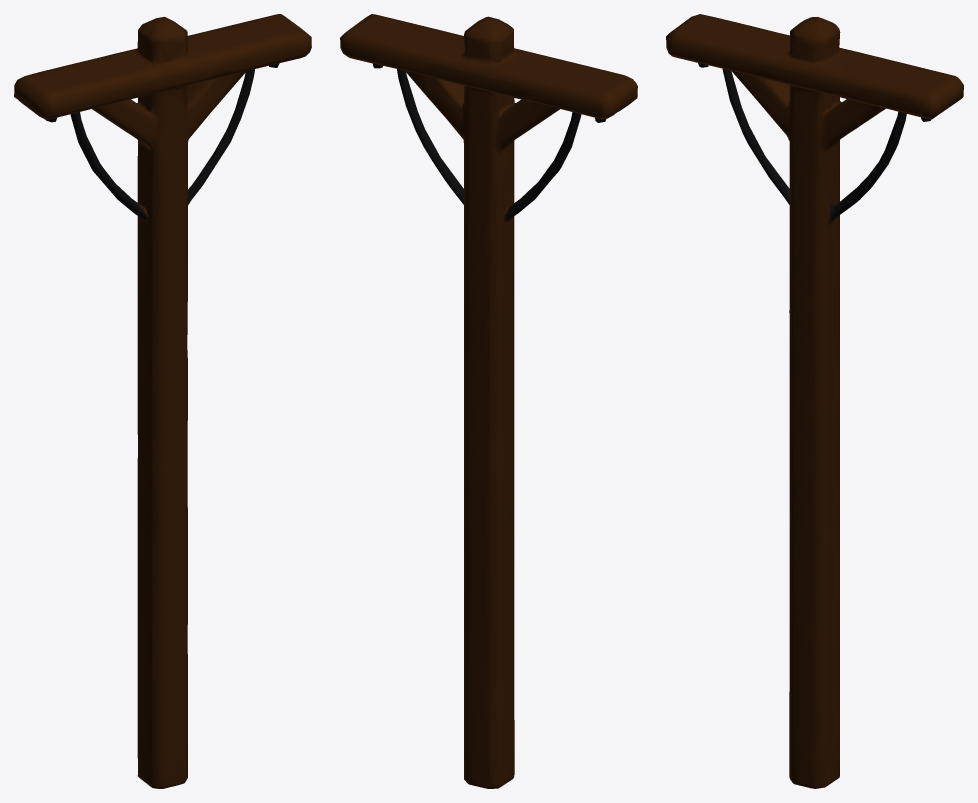
File: gen3d-telephone-pole-lod0.glb
3 views of the same model, side by side, from view 1: azimuth 30°, elevation 25°; view 2: azimuth 150°, elevation 25°; view 3: azimuth 330°, elevation 25° (orthographic).
Visible parts, largest first — view 1: part_0; view 2: part_0; view 3: part_0.
Boxes of the visible parts, left/top/right/bottom form: part_0: left=14, top=14, right=311, bottom=788; part_0: left=340, top=14, right=637, bottom=788; part_0: left=666, top=14, right=963, bottom=788.
Size of the model in its own units: 0.3775 by 0.9992 by 0.0776.
